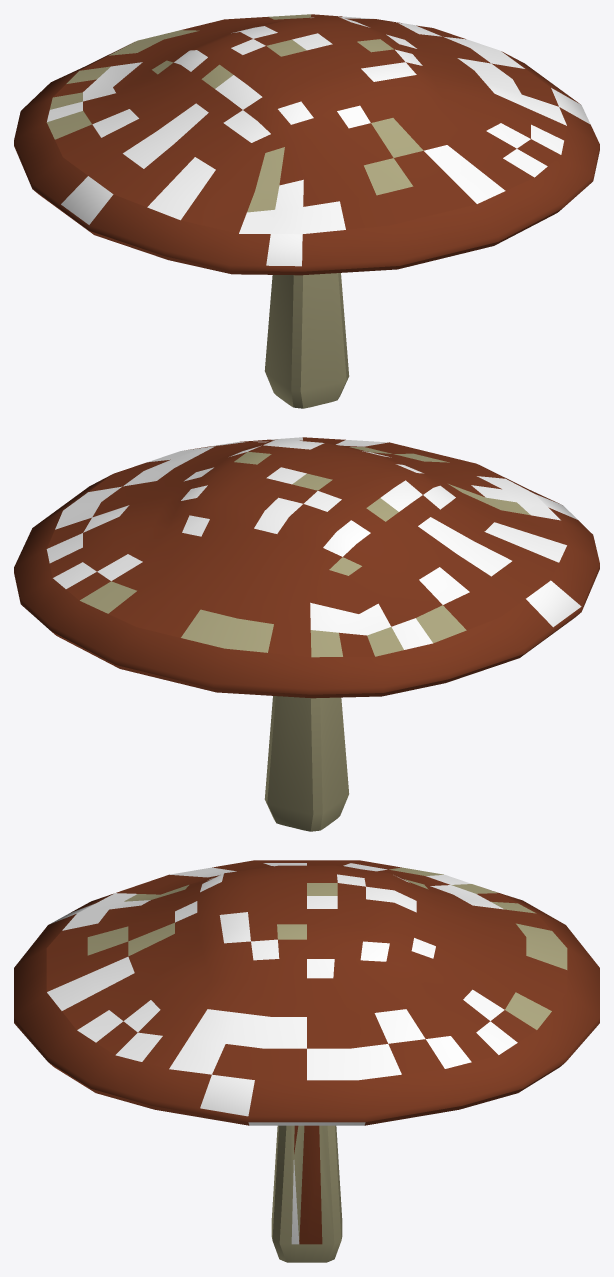
The model's file is Large_Mushroom.fbx.
The picture shows the model from 3 angles, top to bottom: view 1: azimuth 30°, elevation 25°; view 2: azimuth 150°, elevation 25°; view 3: azimuth 270°, elevation 25°; orthographic projection. The views are drawn at different scales.
Parts seen in each view (by area): view 1: Box001; view 2: Box001; view 3: Box001.
Boxes of the visible parts, x1=… form: Box001: x1=14, y1=14, x2=599, y2=408; Box001: x1=14, y1=437, x2=599, y2=831; Box001: x1=14, y1=860, x2=599, y2=1262.
Size of the model in its own units: 55.42 by 37.02 by 55.42.
